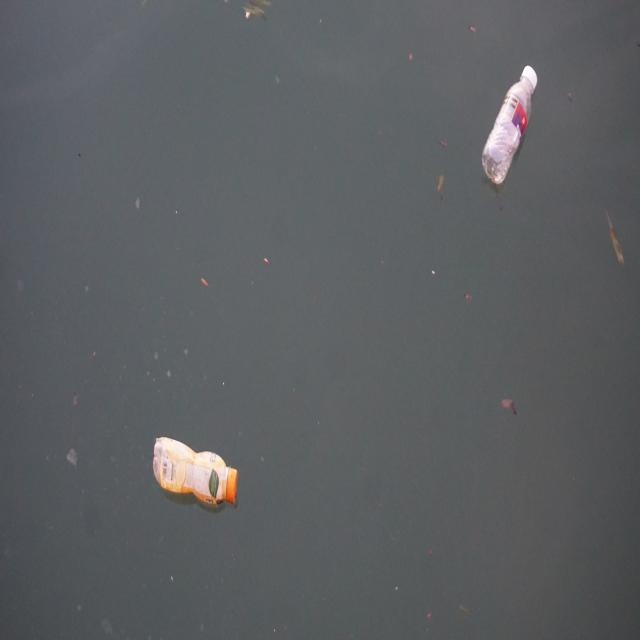Botol Plastik: (148, 428, 253, 513), (481, 62, 540, 195)
